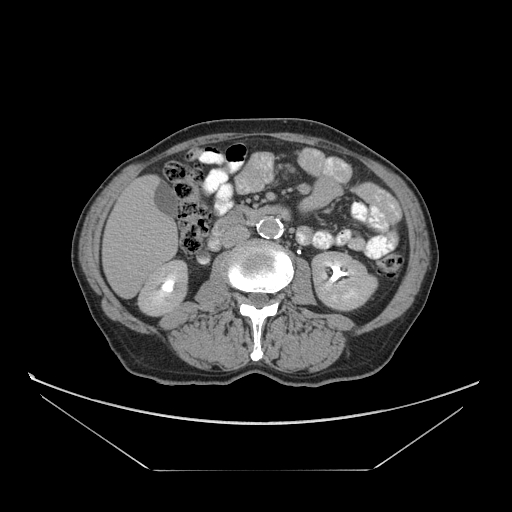left_kidney: (135, 258, 194, 314)
right_kidney: (309, 248, 380, 314)
